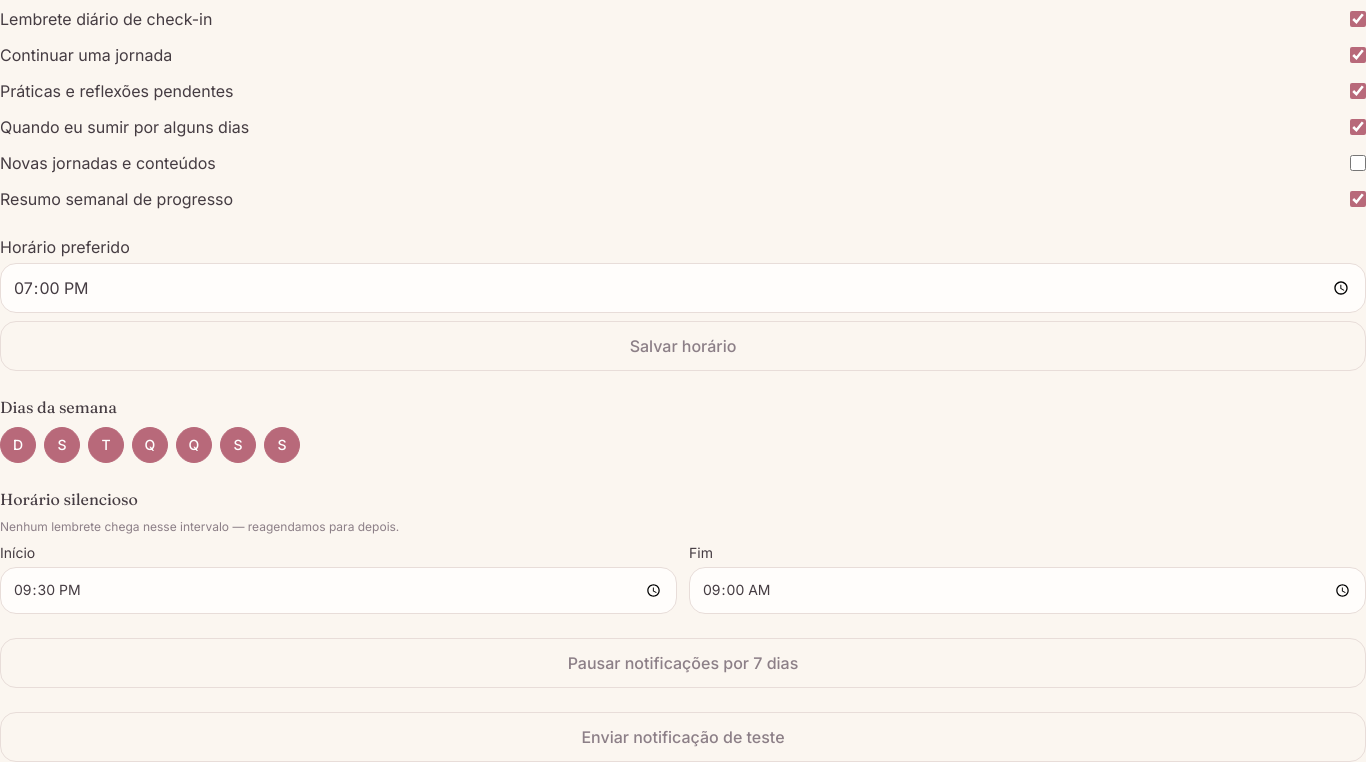
it: NotificacoesForm › "enviar notificação de teste": mostra sucesso quando a action confirma o envio
(page scrolled)
Click the button "Enviar notificação de teste".
click(683, 737)  # box [0,712,1365,761]
(page scrolled)
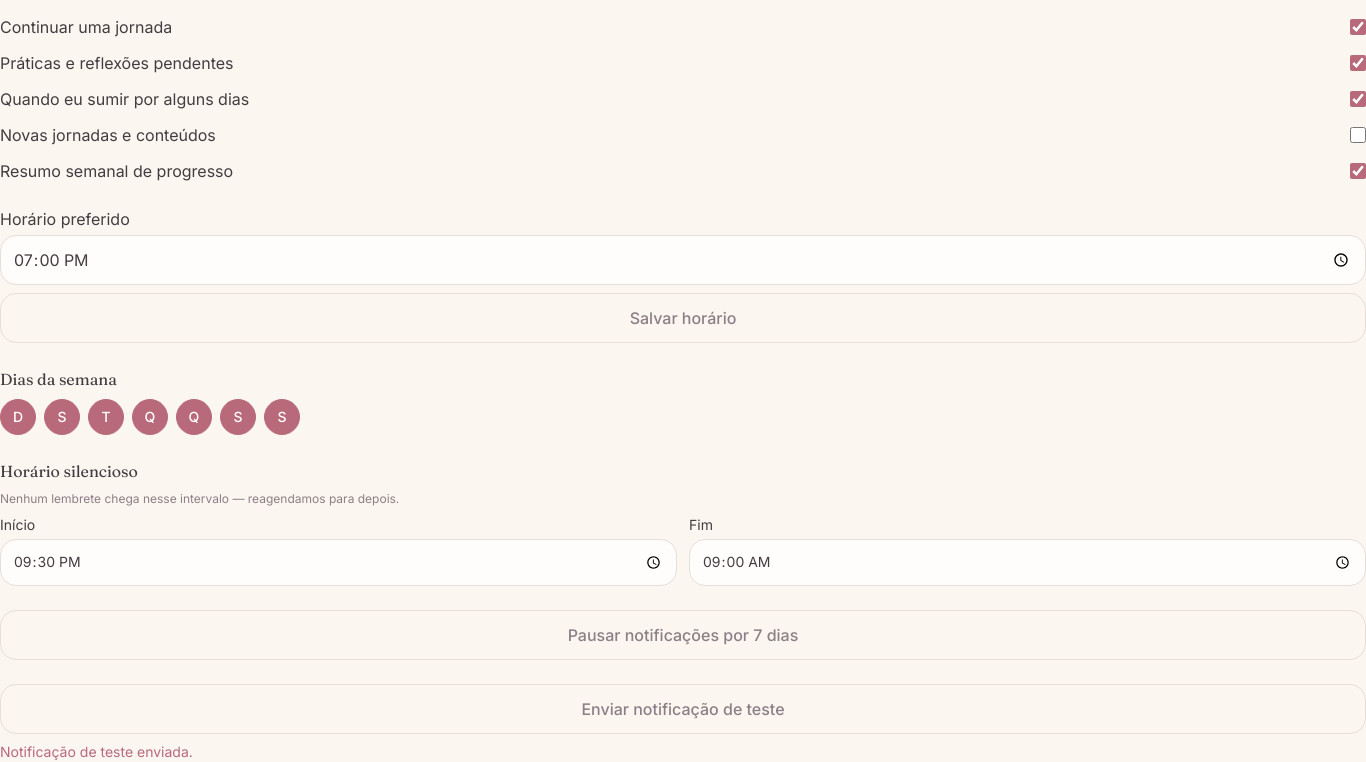
Expected: the text "Notificação de teste enviada." is shown, [0,743,193,760]
